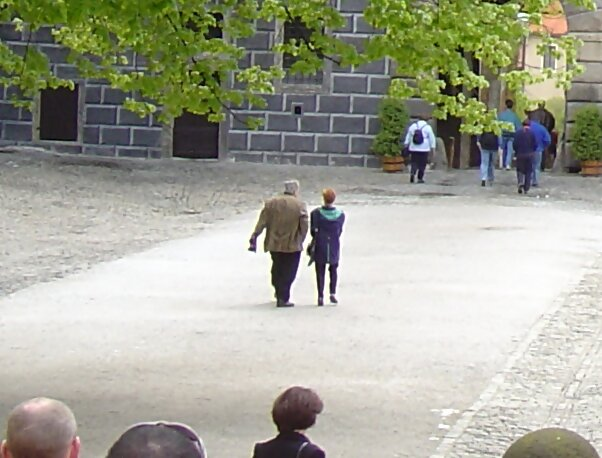person: (247, 178, 309, 309), (255, 385, 329, 458), (2, 391, 82, 458), (309, 186, 351, 308), (397, 113, 437, 182), (471, 114, 505, 189), (514, 120, 542, 196), (499, 100, 519, 169)
